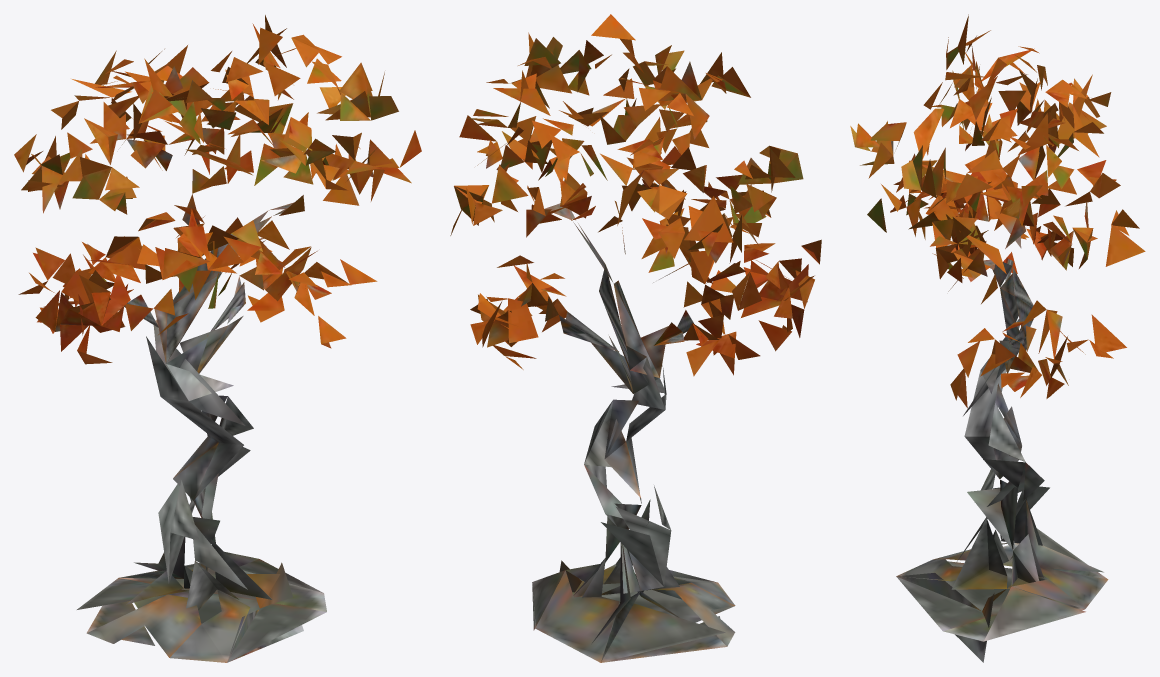
The model's file is camp_arbre1_loin.glb.
3 renders of one model, left to right at view 1: azimuth 30°, elevation 25°; view 2: azimuth 150°, elevation 25°; view 3: azimuth 270°, elevation 25°, orthographic. The views are drawn at different scales.
Parts seen in each view (by area): view 1: Mesh_0; view 2: Mesh_0; view 3: Mesh_0.
Part boxes in pixels (bbox=[...]): Mesh_0: bbox=[14, 15, 421, 662]; Mesh_0: bbox=[450, 14, 821, 662]; Mesh_0: bbox=[850, 14, 1145, 662].
Size of the model in its own units: 1.24 by 1.93 by 0.8991.
Materials: 1 (1 with a texture image).
